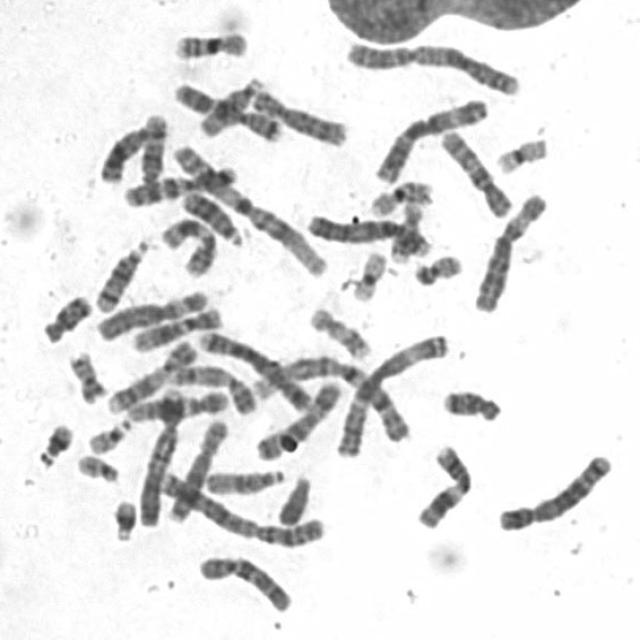A1: (163, 136, 330, 278), (246, 348, 415, 444)
A2: (151, 463, 327, 550), (338, 30, 525, 97)
A3: (329, 324, 452, 460), (367, 90, 492, 185)
B4: (132, 380, 187, 527), (300, 205, 433, 259)
B5: (191, 322, 317, 413), (491, 444, 615, 533)
C10: (433, 121, 516, 219), (191, 546, 295, 614)
C11: (409, 435, 474, 531), (154, 210, 219, 278)
C12: (124, 300, 224, 354), (120, 382, 231, 424)
C6: (466, 183, 551, 314), (87, 281, 212, 342)
C7: (167, 75, 285, 143), (115, 158, 240, 208)
C8: (162, 411, 232, 524), (244, 82, 351, 147)
C9: (98, 332, 200, 414), (164, 356, 260, 416)
D13: (175, 182, 248, 246), (93, 115, 156, 185)
D14: (88, 230, 154, 314), (132, 106, 170, 188)
D15: (193, 69, 267, 138), (199, 460, 287, 498)
E16: (363, 172, 436, 218), (166, 22, 251, 61)
E17: (302, 298, 374, 362), (383, 194, 425, 262)
E18: (34, 286, 94, 344), (436, 380, 504, 423)
F19: (488, 129, 550, 176), (345, 242, 389, 302)
F20: (61, 343, 109, 403), (407, 245, 466, 287)
G21: (30, 413, 76, 469), (105, 492, 139, 544)
G22: (80, 411, 134, 456), (70, 446, 122, 484)
X: (249, 373, 344, 462)
Y: (270, 468, 313, 528)
